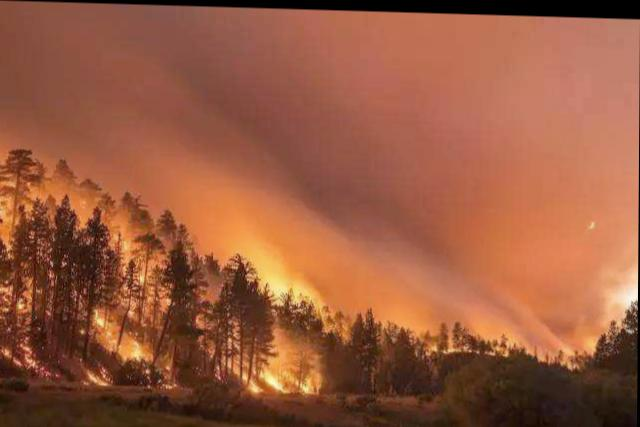fire: (1, 215, 180, 384), (236, 268, 326, 394)
